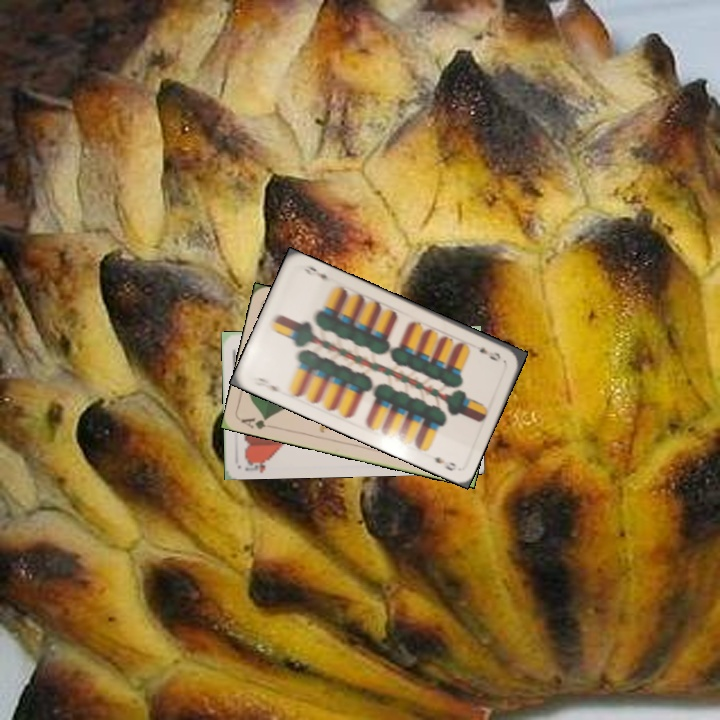E9: (250, 373, 285, 397), (475, 343, 504, 364)
GA: (237, 413, 271, 432)
HO: (241, 455, 273, 474)
